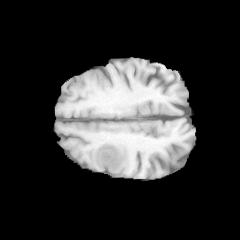glioma: (92, 142, 127, 174)
